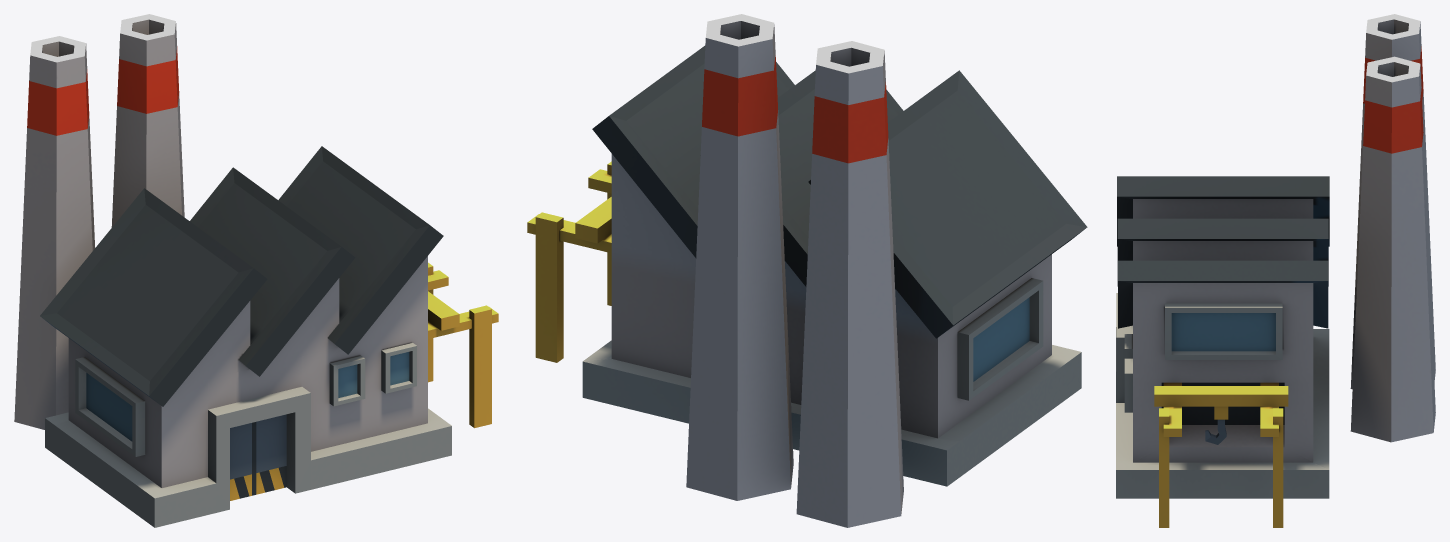
Rendered from PUSHILIN_factory.gltf.
3 renders of one model, left to right at view 1: azimuth 30°, elevation 25°; view 2: azimuth 150°, elevation 25°; view 3: azimuth 270°, elevation 25°, orthographic. The views are drawn at different scales.
Parts seen in each view (by area): view 1: node-0; view 2: node-0; view 3: node-0.
Part boxes in pixels (box(x1,y1,x2,y2)): node-0: box(14, 14, 498, 527); node-0: box(527, 14, 1087, 527); node-0: box(1116, 14, 1435, 527).
Bounding box in the file's own units: 1.82 × 1.69 × 1.39.
1 material, 1 textured.
